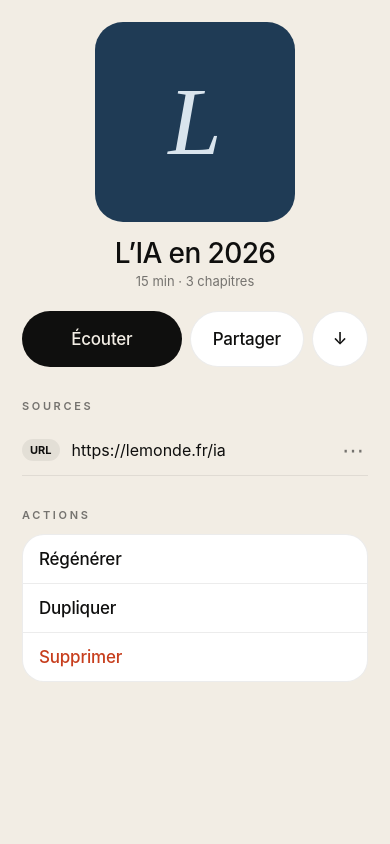
Test: DetailScreen › renders sources and deletes one when its delete button is pressed
Expected: the text "https://lemonde.fr/ia" is shown, [72,440,226,460]
Click the element with test id "delete-source-s1": (353, 450) [342,437,364,463]
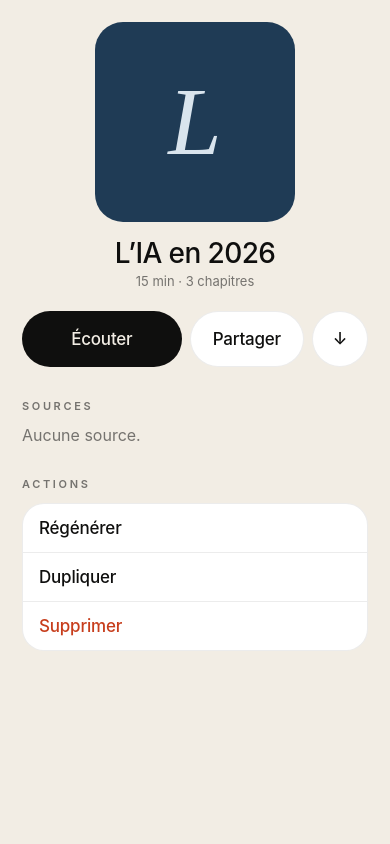
Result: the text "https://lemonde.fr/ia" is gone
